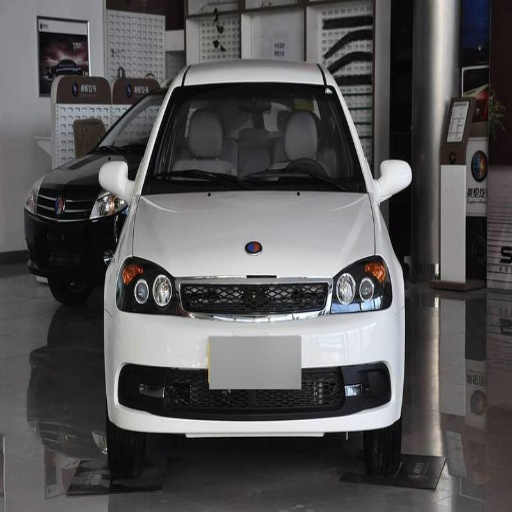front_bumper: (108, 277, 404, 436)
front_right_light: (118, 257, 171, 310)
hood: (135, 192, 375, 279)
left_mirror: (375, 159, 413, 202)
